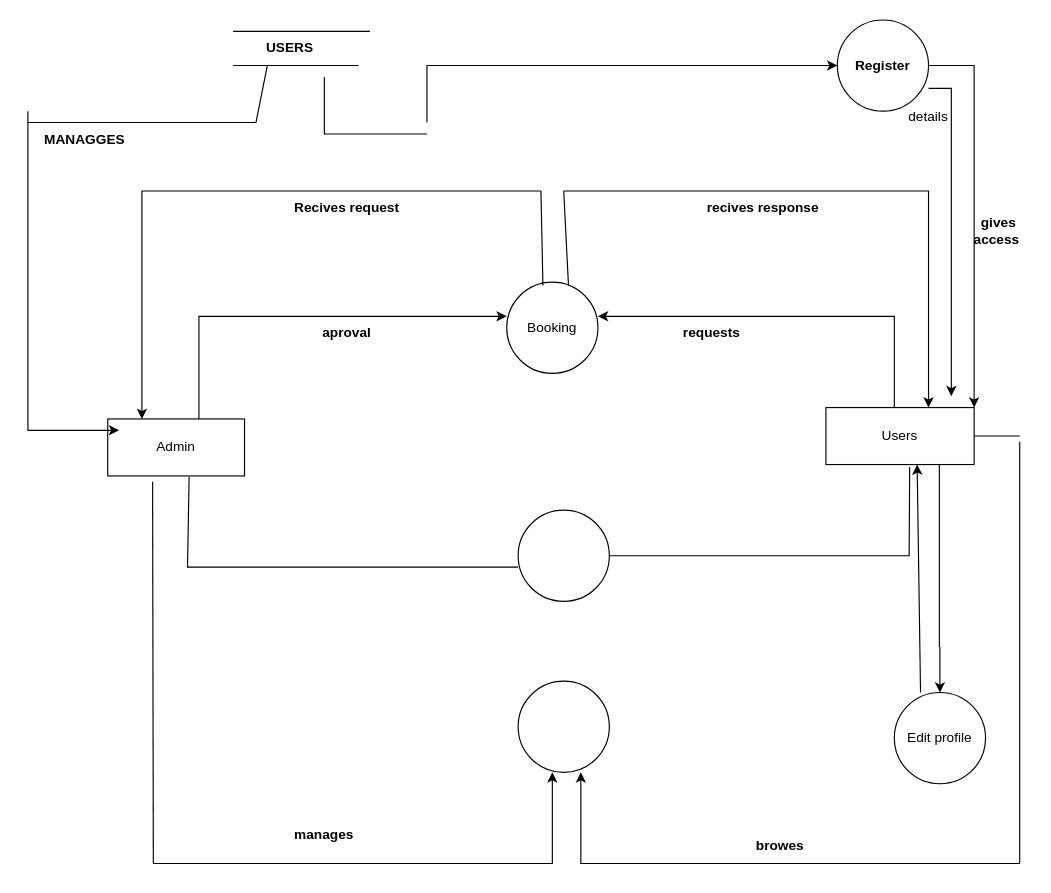
The diagram is 1051 pixels wide and 893 high, and some of its shapes have lost their labels. The centre of each missing label's shape, as x and y in pixels:
"bikes" goes at [563,726].
"Login" goes at [563,555].
